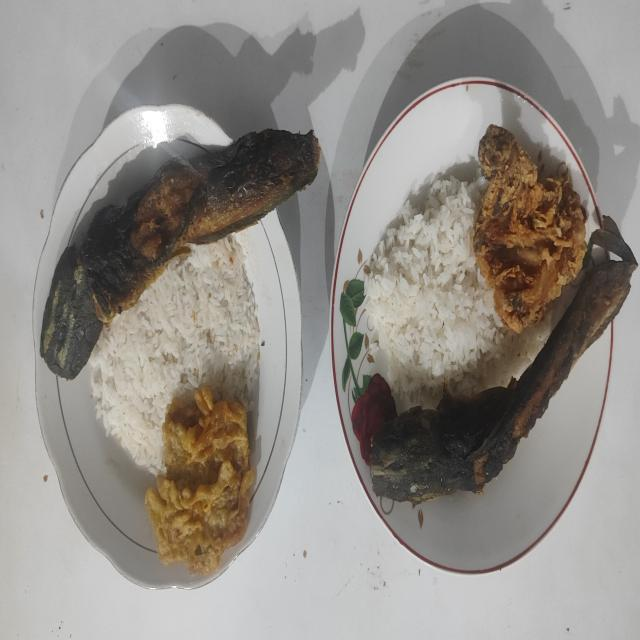nasi_putih: (357, 158, 552, 407), (88, 233, 260, 472)
